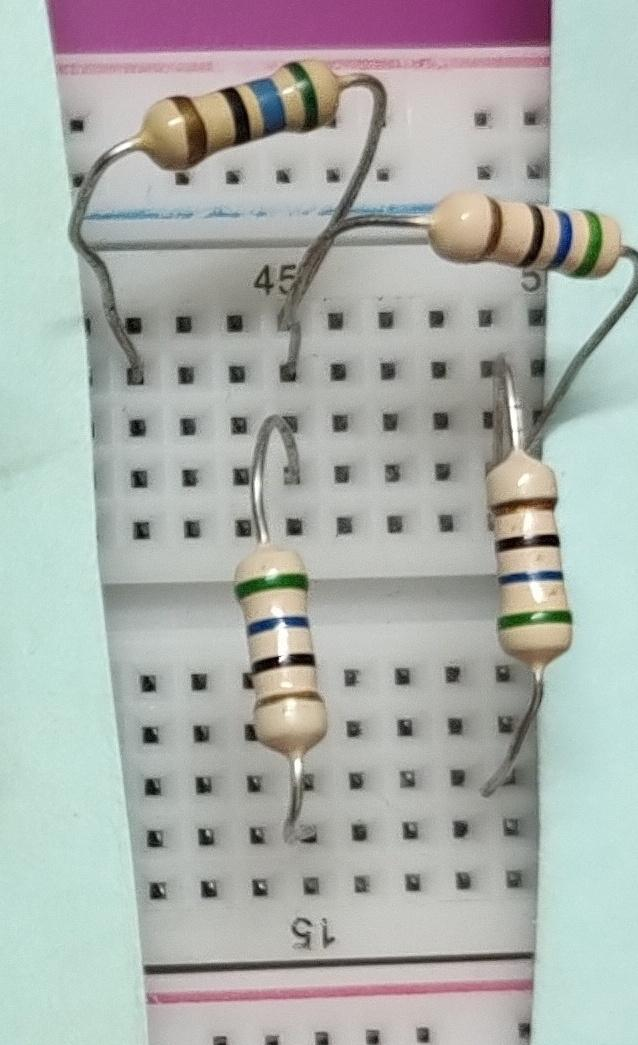resistor: (219, 543, 345, 771), (135, 53, 353, 180), (479, 443, 591, 670), (415, 181, 627, 285)
